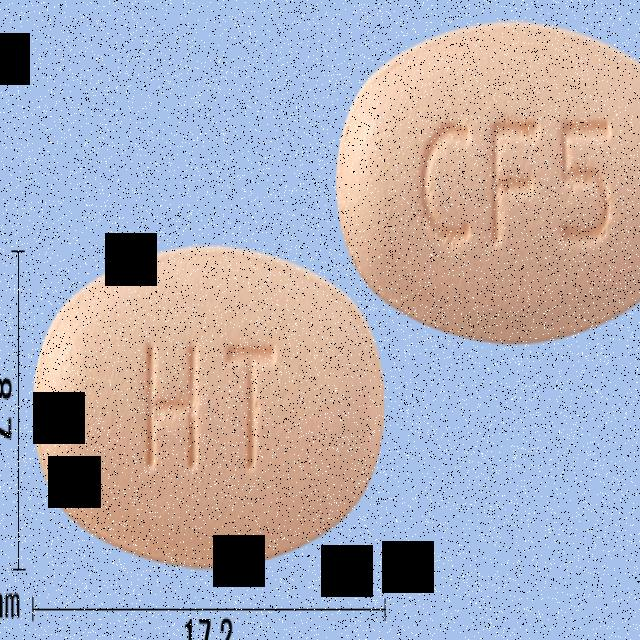Crafroxin Tab: (32, 244, 384, 572), (335, 18, 640, 342)
